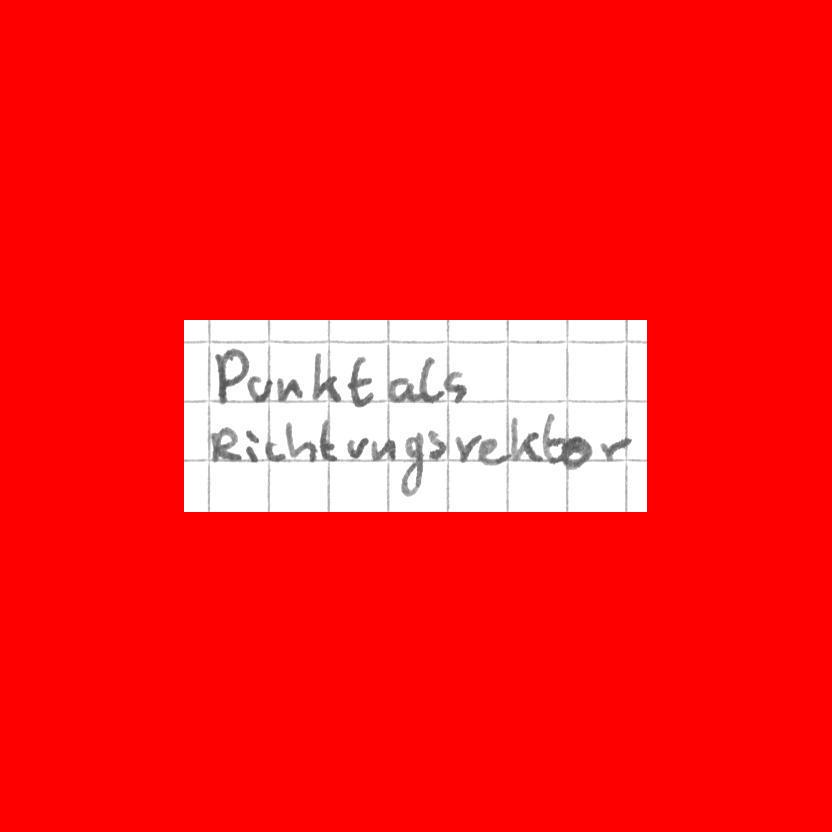Char: (212, 344, 250, 406), (308, 347, 344, 406), (397, 431, 425, 497), (282, 416, 319, 464), (508, 414, 544, 463), (417, 353, 445, 403), (347, 353, 372, 408), (540, 410, 565, 465), (209, 424, 243, 464), (598, 431, 636, 464), (440, 368, 473, 405), (562, 434, 594, 472), (478, 431, 510, 467), (386, 372, 417, 404), (316, 418, 339, 461), (245, 373, 274, 404), (369, 433, 397, 464), (454, 431, 480, 463), (276, 372, 303, 402), (243, 427, 262, 465), (344, 432, 368, 460), (427, 428, 448, 459), (263, 438, 286, 465)
